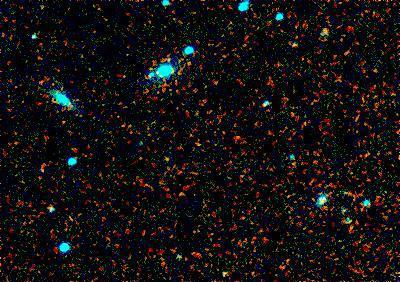star: (154, 47, 184, 77)
